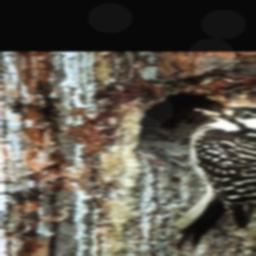Woodpecker: (169, 104, 256, 250)
